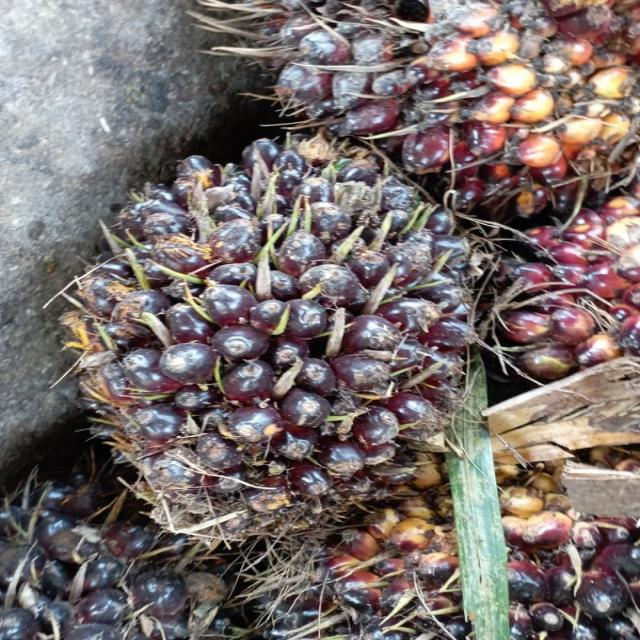fraksi 00: (82, 144, 488, 534)
